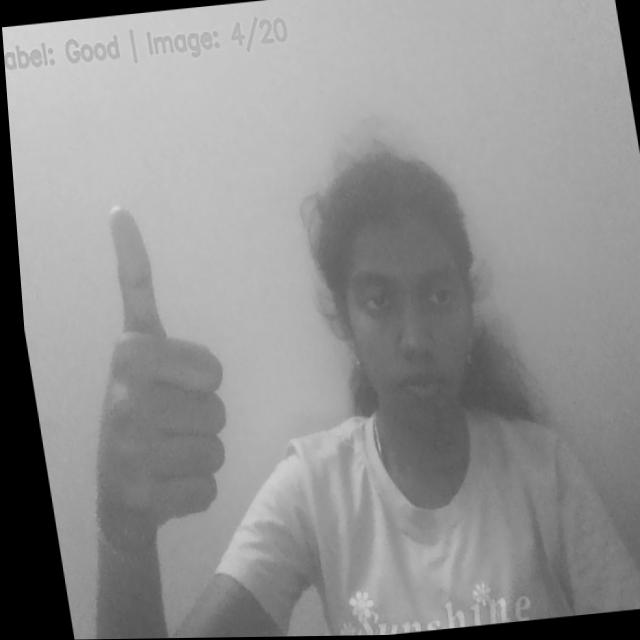Good: (28, 194, 239, 547)
